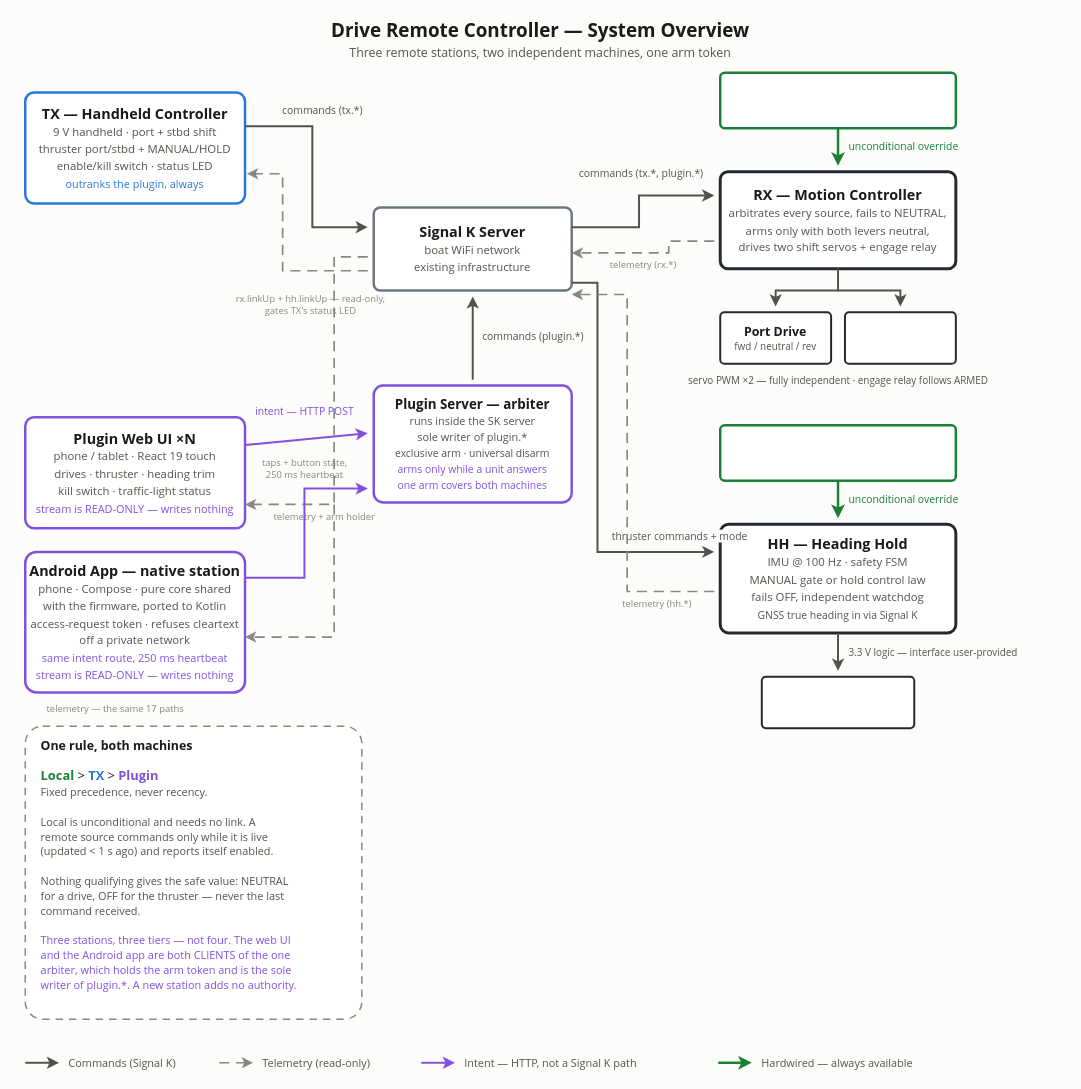
Image size: 1081x1089. Some labels were removed from this diagram. Here are the shapes that lost their labels. From the top down, the box of each, then its label:
(719, 71, 957, 129): RX Local Switches hardwired — no WiFi needed
(843, 311, 956, 364): Stbd Drive fwd / neutral / rev
(719, 424, 957, 481): HH Local ENGAGE hardwired — always means HOLD
(760, 675, 915, 729): Bow Thruster ENABLE · PORT · STBD
